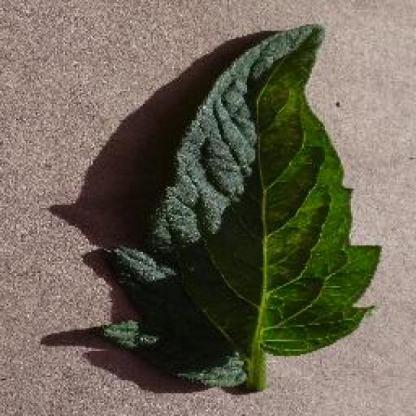Tomato_Spider_Mites: (97, 25, 380, 383)
